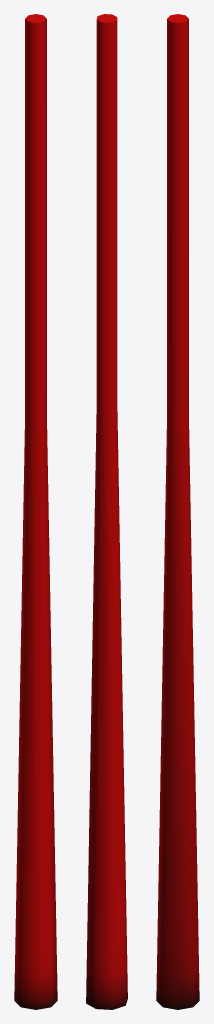
Rendered from Flagpole_2_export.obj.
3 views of the same model, side by side, from view 1: azimuth 90°, elevation 25°; view 2: azimuth 150°, elevation 25°; view 3: azimuth 270°, elevation 25° (orthographic).
Visible parts, largest first — view 1: Flagpole_2; view 2: Flagpole_2; view 3: Flagpole_2.
Boxes of the visible parts, x1=… form: Flagpole_2: x1=14, y1=14, x2=57, y2=1009; Flagpole_2: x1=86, y1=14, x2=127, y2=1009; Flagpole_2: x1=156, y1=14, x2=199, y2=1009.
Bounding box in the file's own units: 0.2 × 5 × 0.2.
